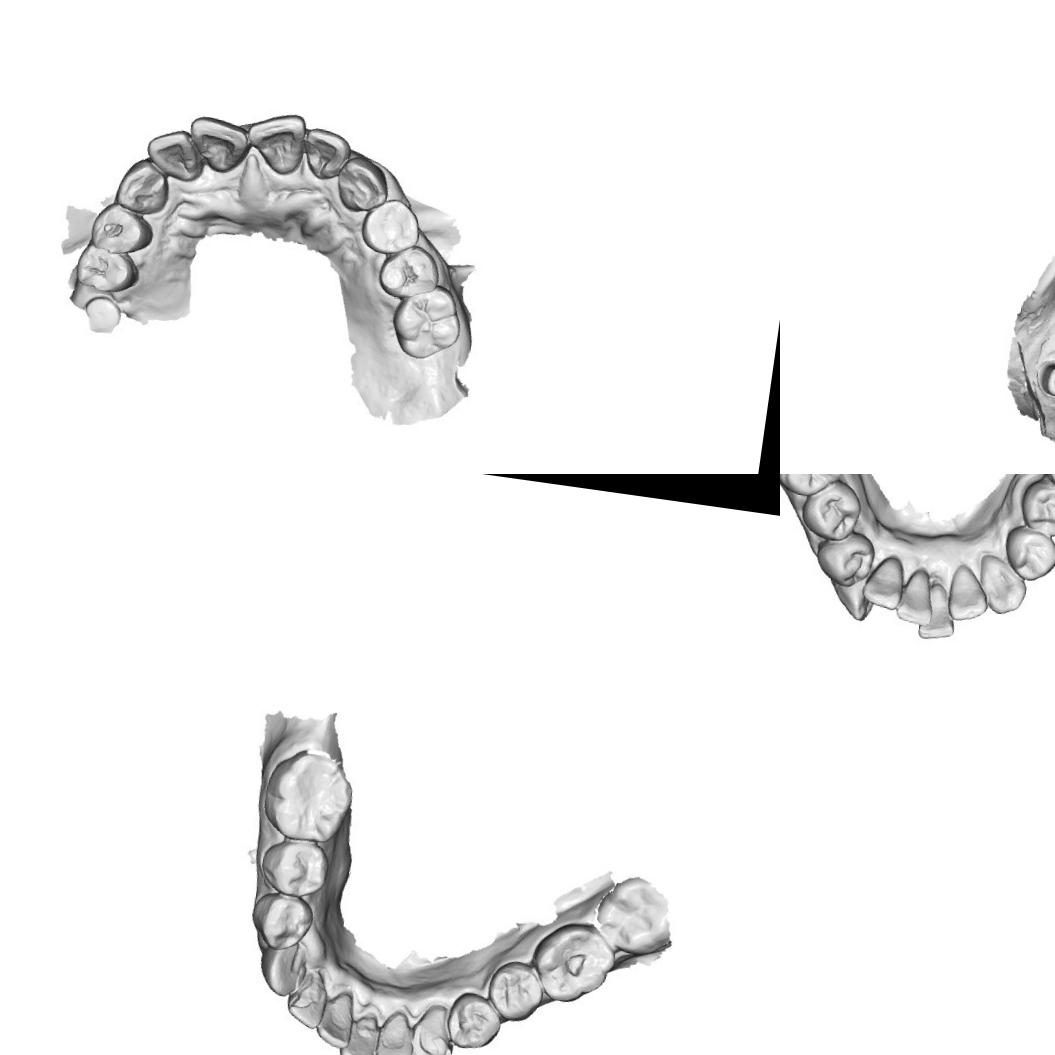abutment: (1037, 357, 1055, 402)
canine: (972, 552, 1036, 620), (111, 154, 174, 219), (332, 152, 393, 218), (257, 940, 309, 999), (407, 999, 460, 1055), (829, 572, 877, 628)
incisor: (241, 106, 310, 179), (184, 112, 252, 178), (141, 124, 205, 186), (913, 580, 961, 650), (299, 124, 354, 185), (946, 563, 994, 628), (312, 987, 359, 1051), (282, 972, 330, 1032), (858, 552, 905, 613), (894, 570, 941, 627), (367, 1010, 418, 1055), (337, 1005, 380, 1055)
molar: (259, 744, 358, 849), (524, 915, 618, 1009), (587, 868, 678, 961), (386, 278, 469, 365), (780, 474, 850, 501)
premolar: (253, 834, 334, 902), (812, 525, 882, 595), (373, 239, 444, 306), (247, 887, 316, 955), (800, 478, 868, 546), (358, 195, 426, 260), (484, 956, 546, 1027), (86, 200, 158, 260), (442, 988, 506, 1054), (72, 241, 142, 298), (1002, 528, 1055, 584), (1020, 477, 1055, 538)
